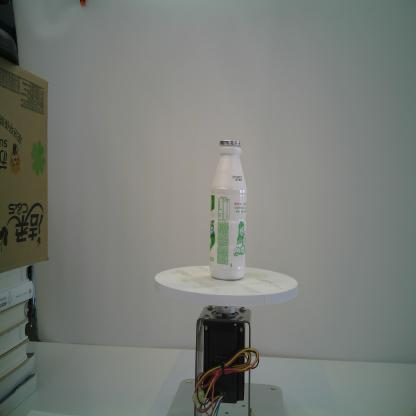Milk: (208, 139, 247, 281)
